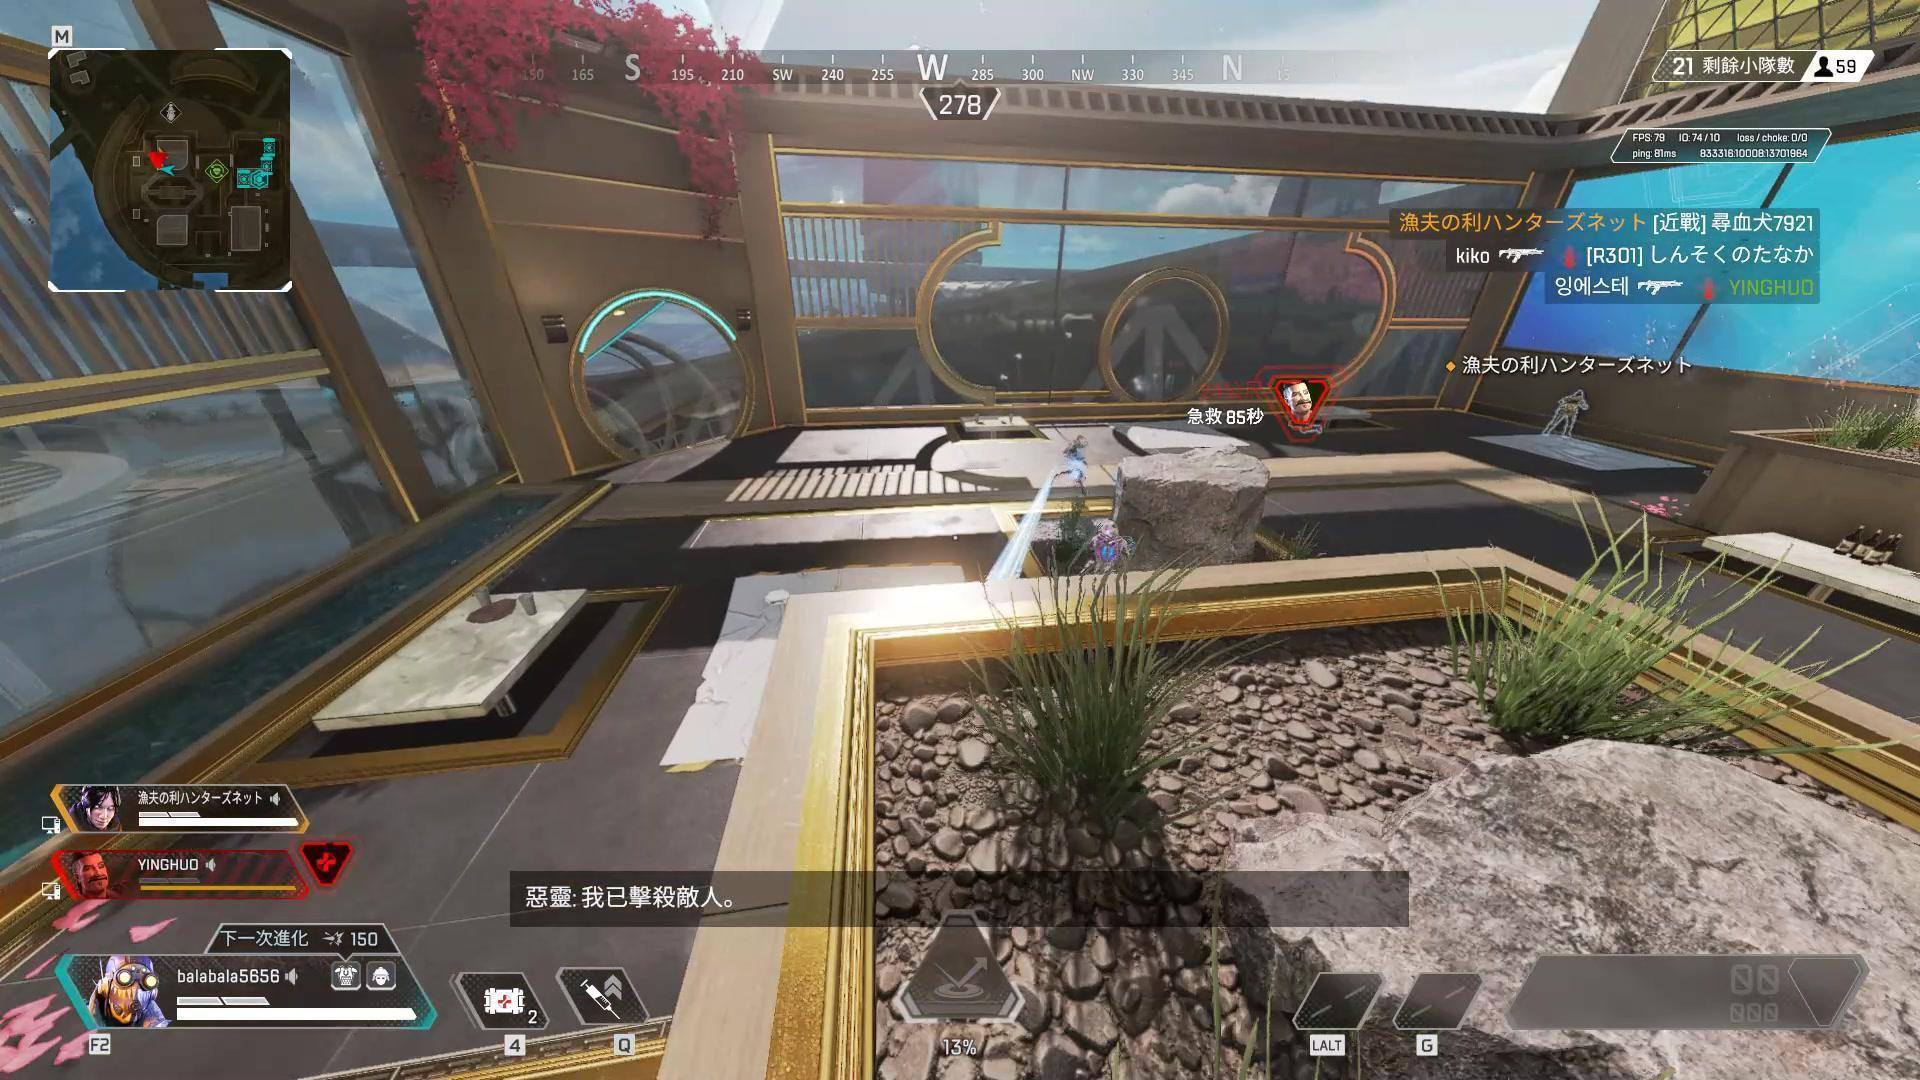avatar: (1085, 517, 1128, 575), (1546, 385, 1588, 441), (1061, 434, 1093, 497)
